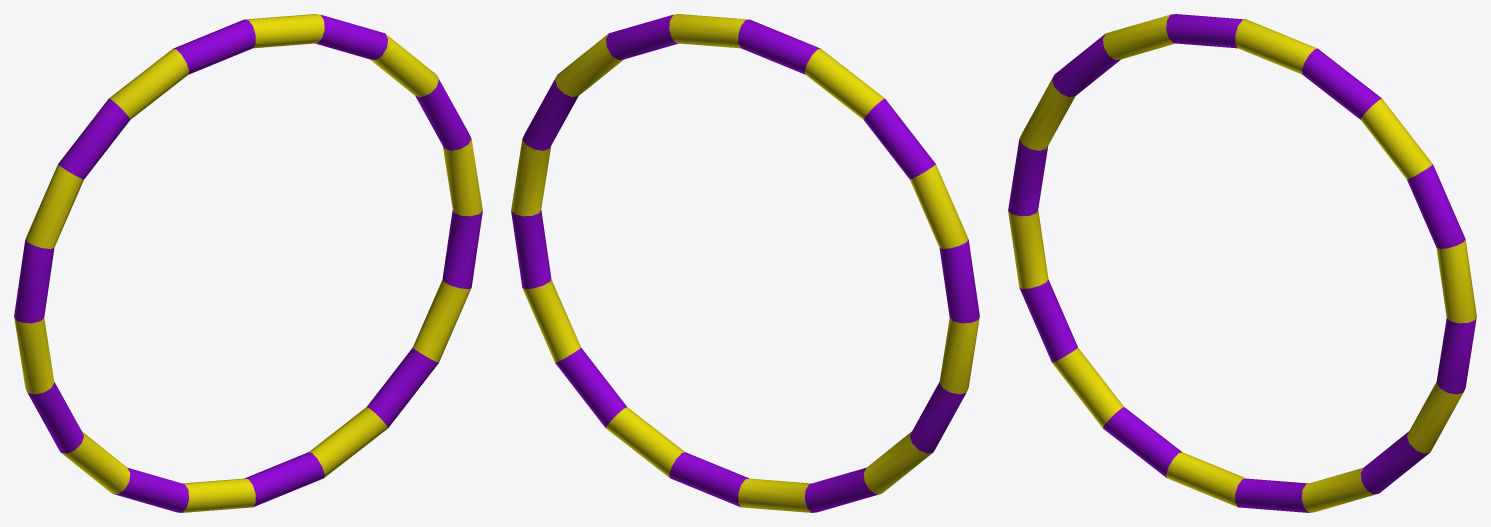
The model's file is Checkpoint.fbx.
The picture shows the model from 3 angles, left to right: view 1: azimuth 30°, elevation 25°; view 2: azimuth 150°, elevation 25°; view 3: azimuth 330°, elevation 25°; orthographic projection.
Parts seen in each view (by area): view 1: Torus001; view 2: Torus001; view 3: Torus001.
Part boxes in pixels (left/top/right/bottom): Torus001: left=14, top=14, right=482, bottom=512; Torus001: left=511, top=14, right=979, bottom=512; Torus001: left=1008, top=14, right=1476, bottom=512.
Bounding box in the file's own units: 424 × 424 × 22.83.
